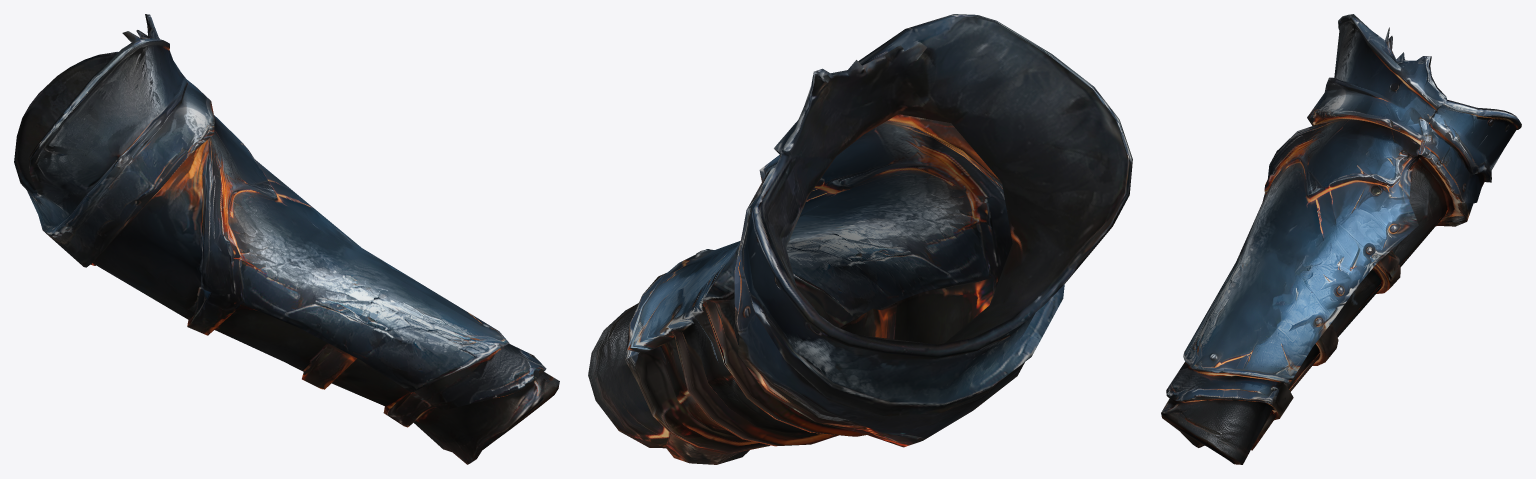
The model's file is gauntlet.glb.
The picture shows the model from 3 angles, left to right: view 1: azimuth 30°, elevation 25°; view 2: azimuth 150°, elevation 25°; view 3: azimuth 270°, elevation 25°; orthographic projection. The views are drawn at different scales.
Parts seen in each view (by area): view 1: tripo_node_d9d48df1-f249-41cc-8e92-63be53b3defe; view 2: tripo_node_d9d48df1-f249-41cc-8e92-63be53b3defe; view 3: tripo_node_d9d48df1-f249-41cc-8e92-63be53b3defe.
Part boxes in pixels (left/top/right/bottom): tripo_node_d9d48df1-f249-41cc-8e92-63be53b3defe: left=14, top=14, right=559, bottom=464; tripo_node_d9d48df1-f249-41cc-8e92-63be53b3defe: left=588, top=14, right=1132, bottom=464; tripo_node_d9d48df1-f249-41cc-8e92-63be53b3defe: left=1161, top=14, right=1521, bottom=464.
Size of the model in its own units: 0.9995 by 0.895 by 0.8726.
Materials: 1 (1 with a texture image).
